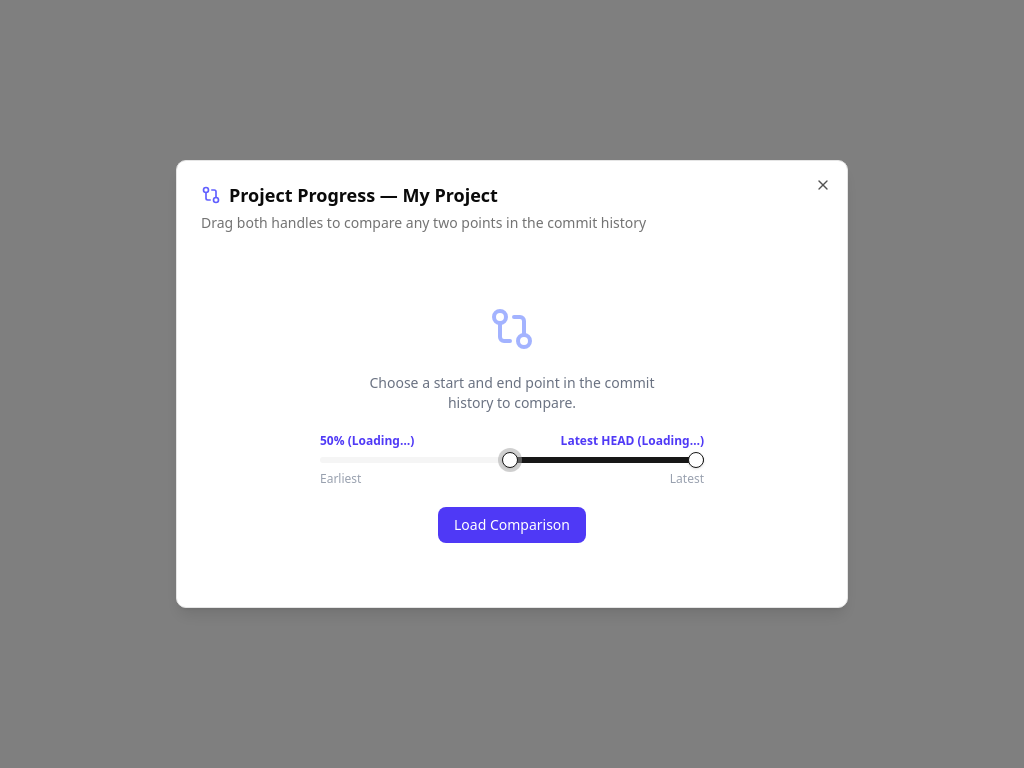
it: SnapshotComparisonModal › displays the truncated commit hashes after success
This screenshot has width=1024, height=768.
Click the button "Load Comparison" at (512,525), box [438,507,586,543]
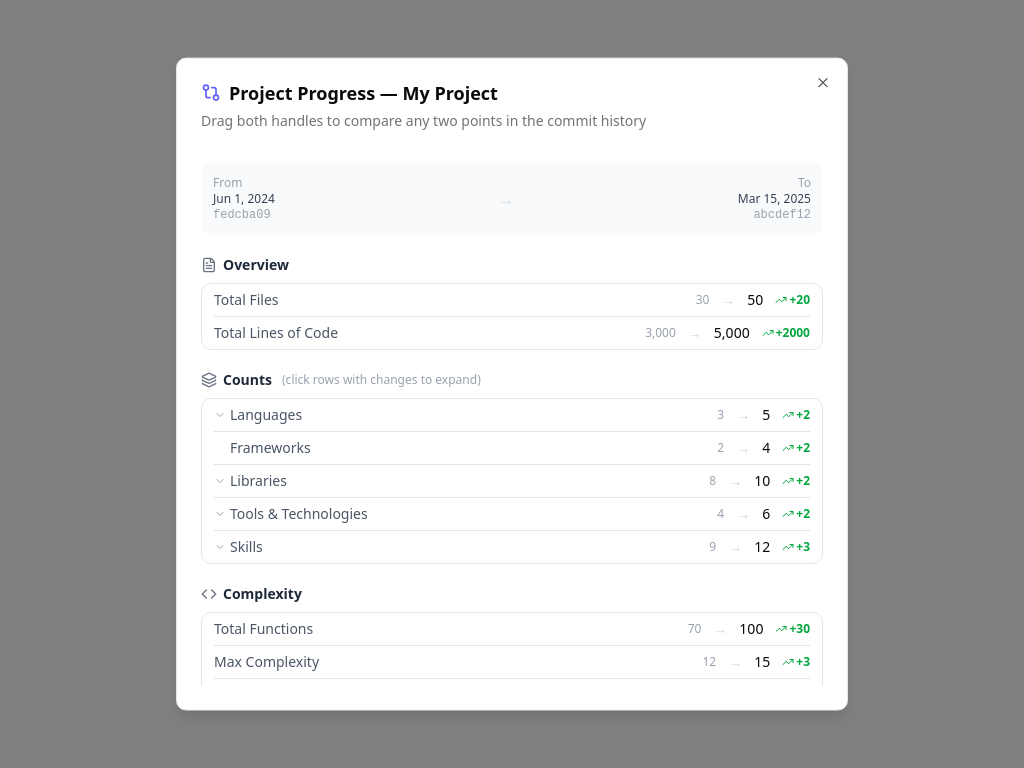
Now the text "50% (Loading…)" is gone
Now the text "abcdef12" is shown, box [753,207,811,223]
Now the text "fedcba09" is shown, box [213,207,275,223]
